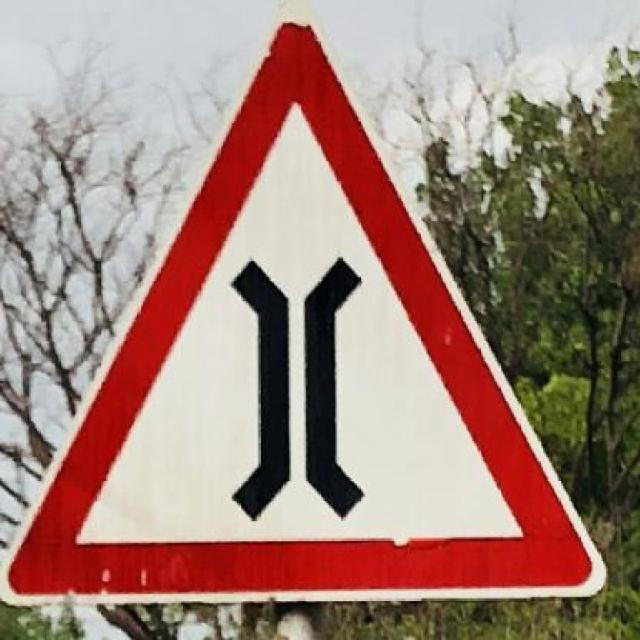narrow bridge ahead: (22, 24, 594, 591)
